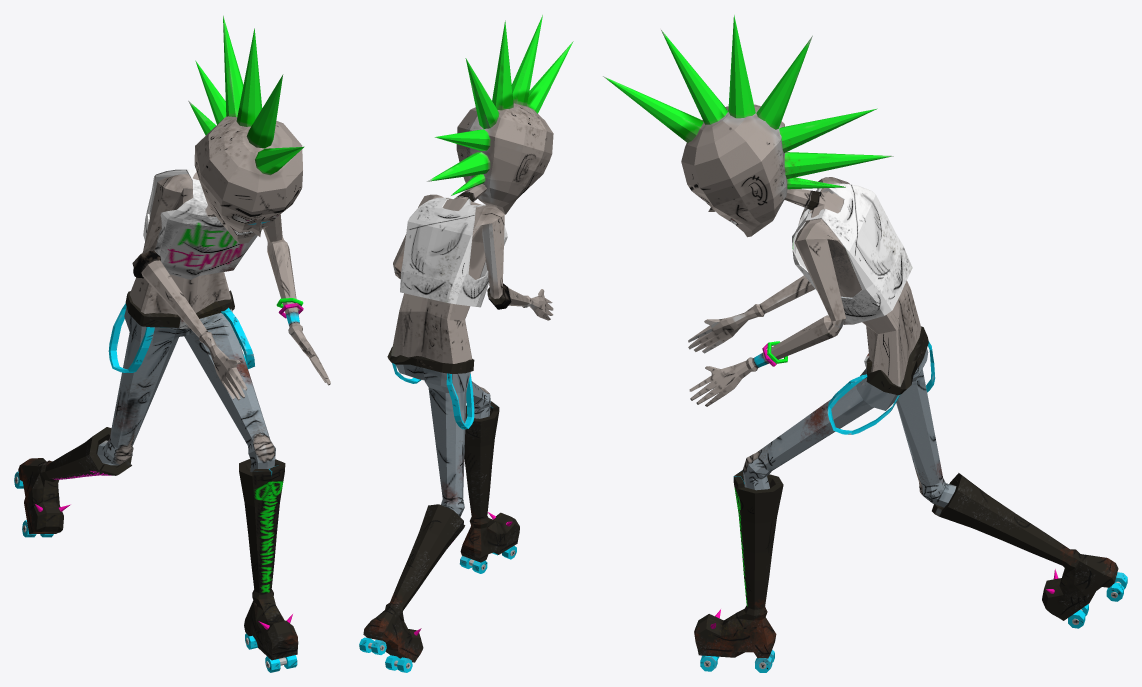
File: punkAnimation_000015.obj
The picture shows the model from 3 angles, left to right: view 1: azimuth 30°, elevation 25°; view 2: azimuth 150°, elevation 25°; view 3: azimuth 270°, elevation 25°; orthographic projection. The views are drawn at different scales.
Visible parts, largest first — view 1: Cube.004_Cube.003; view 2: Cube.004_Cube.003; view 3: Cube.004_Cube.003.
Boxes of the visible parts, left/top/right/bottom form: Cube.004_Cube.003: left=14, top=15, right=330, bottom=672; Cube.004_Cube.003: left=359, top=15, right=573, bottom=672; Cube.004_Cube.003: left=603, top=15, right=1127, bottom=672.
Bounding box in the file's own units: 1.58 × 6.59 × 4.87.
